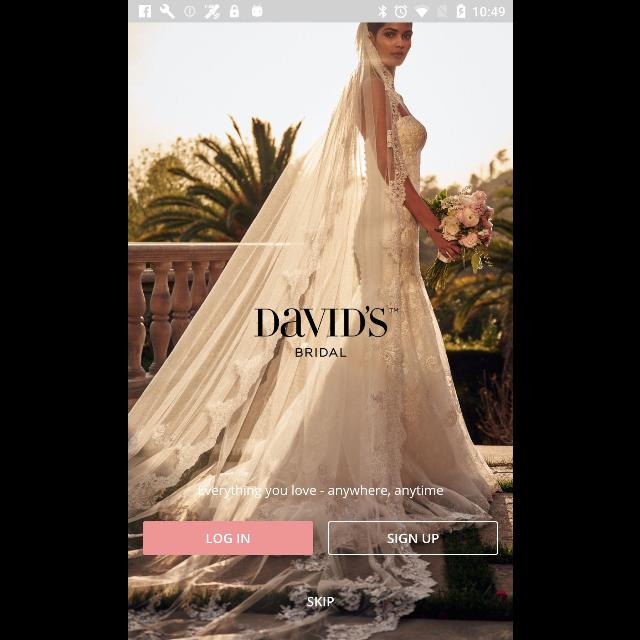backgroundimage: (128, 22, 512, 640)
image: (254, 306, 398, 338)
text: (198, 485, 442, 499), (294, 347, 346, 357), (306, 597, 334, 607)
textbutton: (142, 521, 312, 555), (327, 521, 497, 555)
uppertaskbar: (128, 1, 512, 23)
